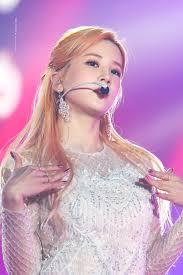earphone: (52, 77, 63, 88)
